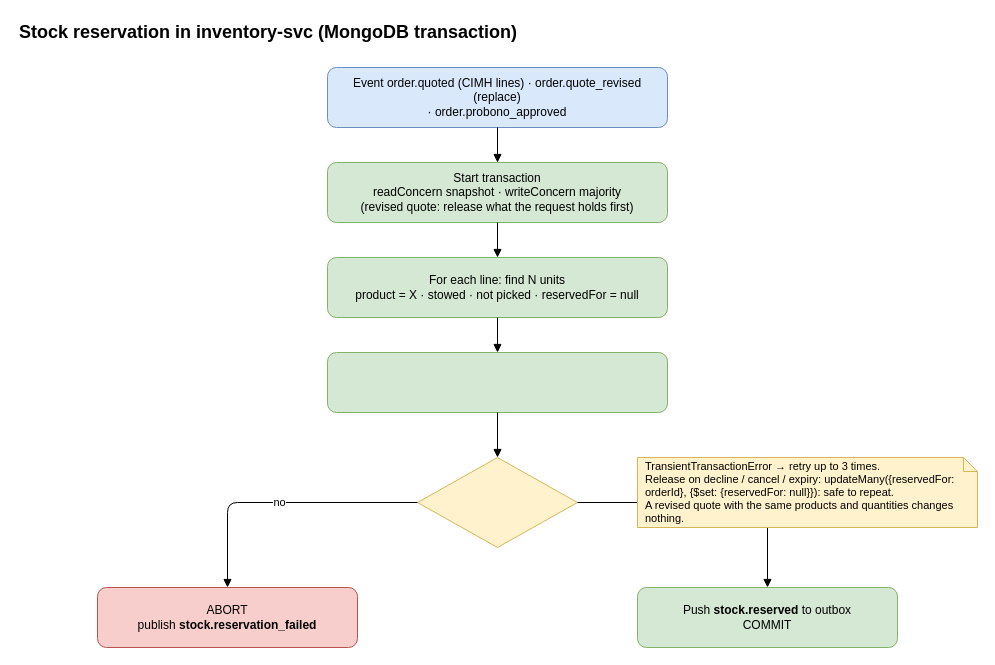
This 995x665 diagram has some shape labels left out. Each missing label, with the centre of its shape:
"modified count = requested?" belongs at (497,502).
"updateMany({_id ∈ ids, reservedFor: null}, {$set: {reservedFor: orderId}})" belongs at (497,382).
